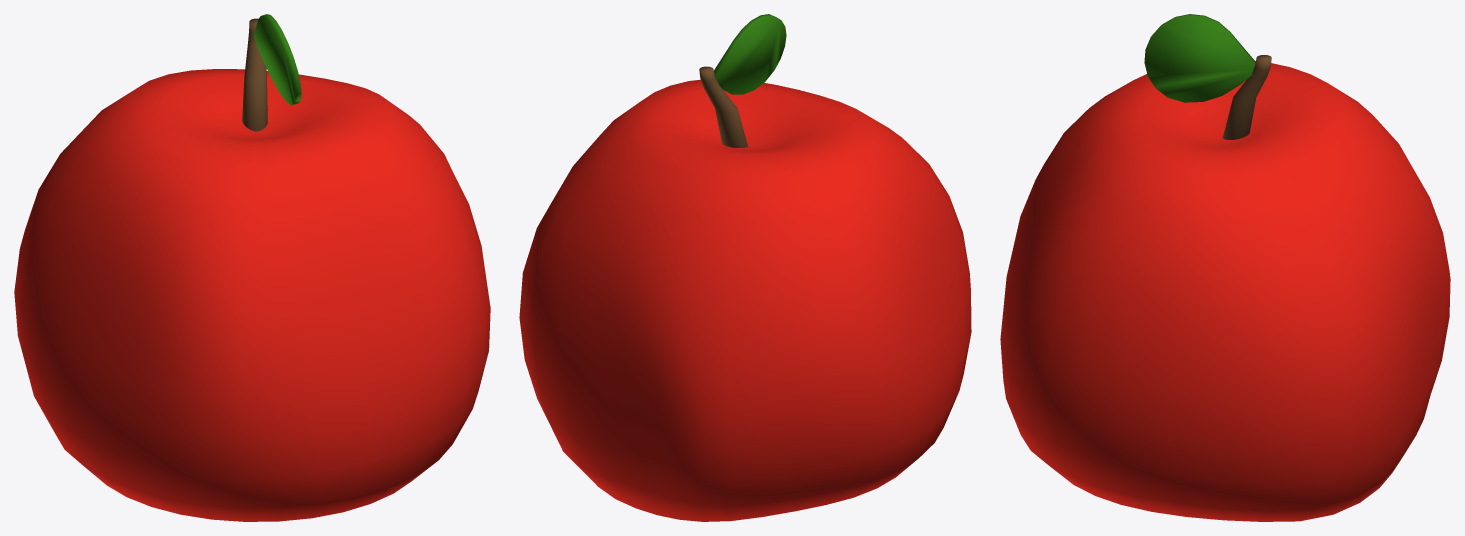
File: jabkoblend.fbx
The picture shows the model from 3 angles, left to right: view 1: azimuth 30°, elevation 25°; view 2: azimuth 150°, elevation 25°; view 3: azimuth 270°, elevation 25°; orthographic projection. The views are drawn at different scales.
Parts seen in each view (by area): view 1: jabłko; view 2: jabłko; view 3: jabłko.
Part boxes in pixels (box(x1,y1,x2,y2)): jabłko: box(14, 14, 490, 521); jabłko: box(519, 14, 971, 521); jabłko: box(1000, 14, 1450, 521).
Size of the model in its own units: 140 by 154 by 139.
